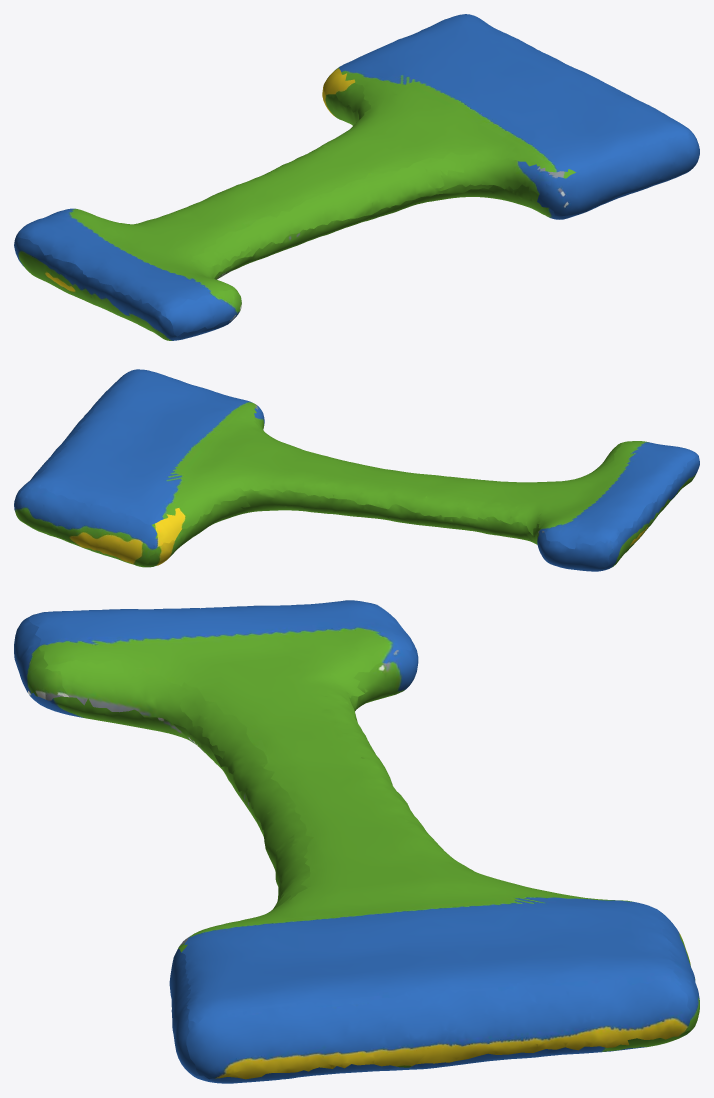
Rendered from balancebeam.glb.
3 renders of one model, top to bottom at view 1: azimuth 30°, elevation 25°; view 2: azimuth 150°, elevation 25°; view 3: azimuth 270°, elevation 25°, orthographic. The views are drawn at different scales.
Parts seen in each view (by area): view 1: geometry_0; view 2: geometry_0; view 3: geometry_0.
Boxes of the visible parts, x1,y1,x2,y2 form: geometry_0: (14, 14, 699, 340); geometry_0: (14, 369, 699, 571); geometry_0: (14, 600, 699, 1083).
Size of the model in its own units: 1.01 by 0.1053 by 0.6791.
Materials: 1 (1 with a texture image).
